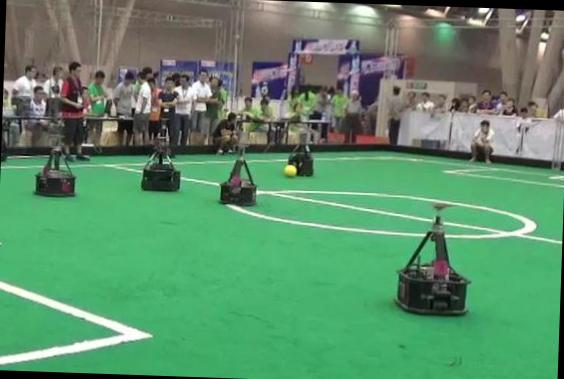ball: (284, 163, 296, 175)
person: (61, 60, 88, 160)
robot: (396, 215, 469, 313), (35, 147, 74, 194), (220, 158, 255, 204), (141, 149, 180, 189), (288, 144, 313, 175)
